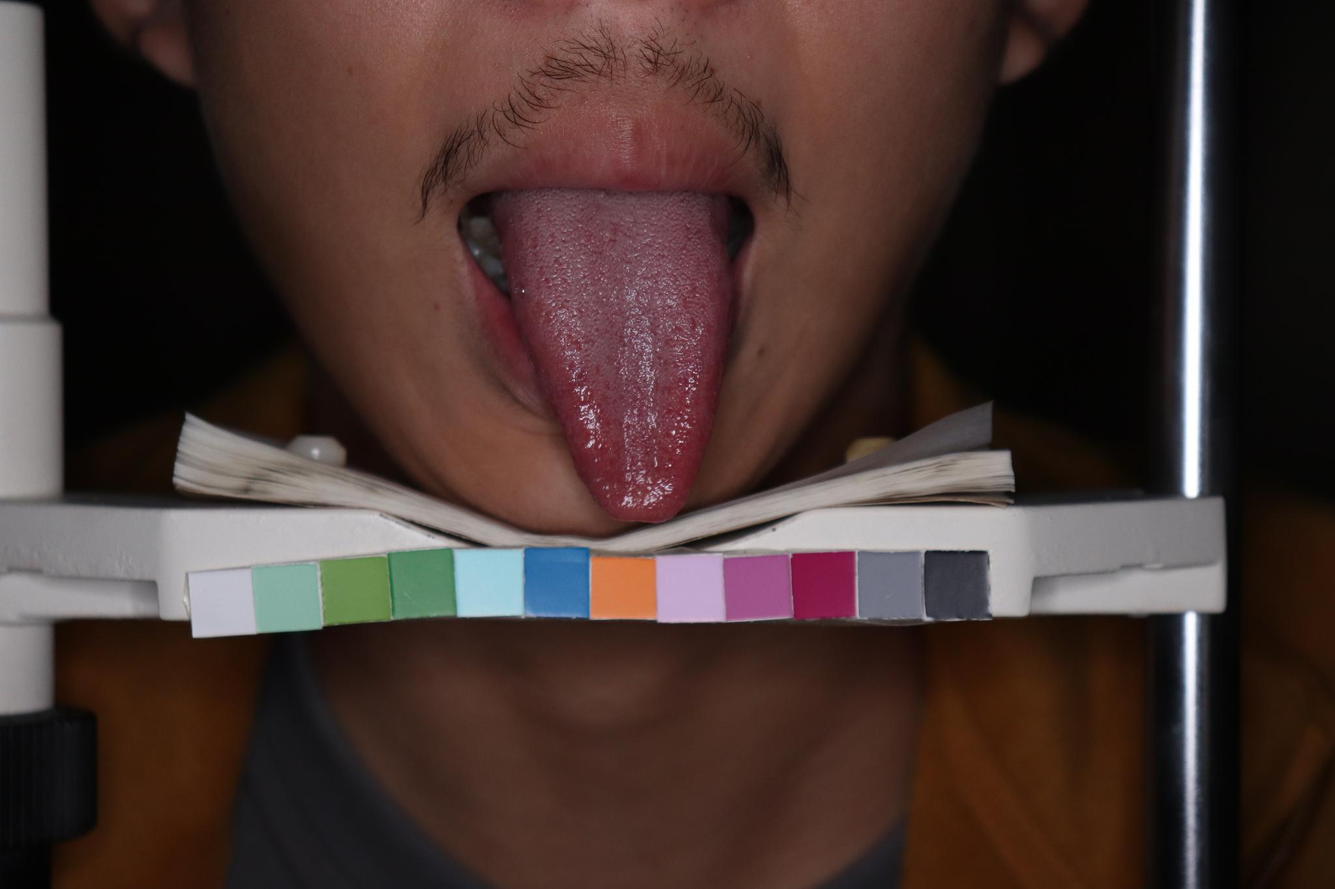baitaishe: (482, 186, 735, 527)
hongdianshe: (560, 337, 621, 452), (645, 318, 695, 424)
huataishe: (580, 446, 700, 518)
shoushe: (482, 186, 735, 527)
